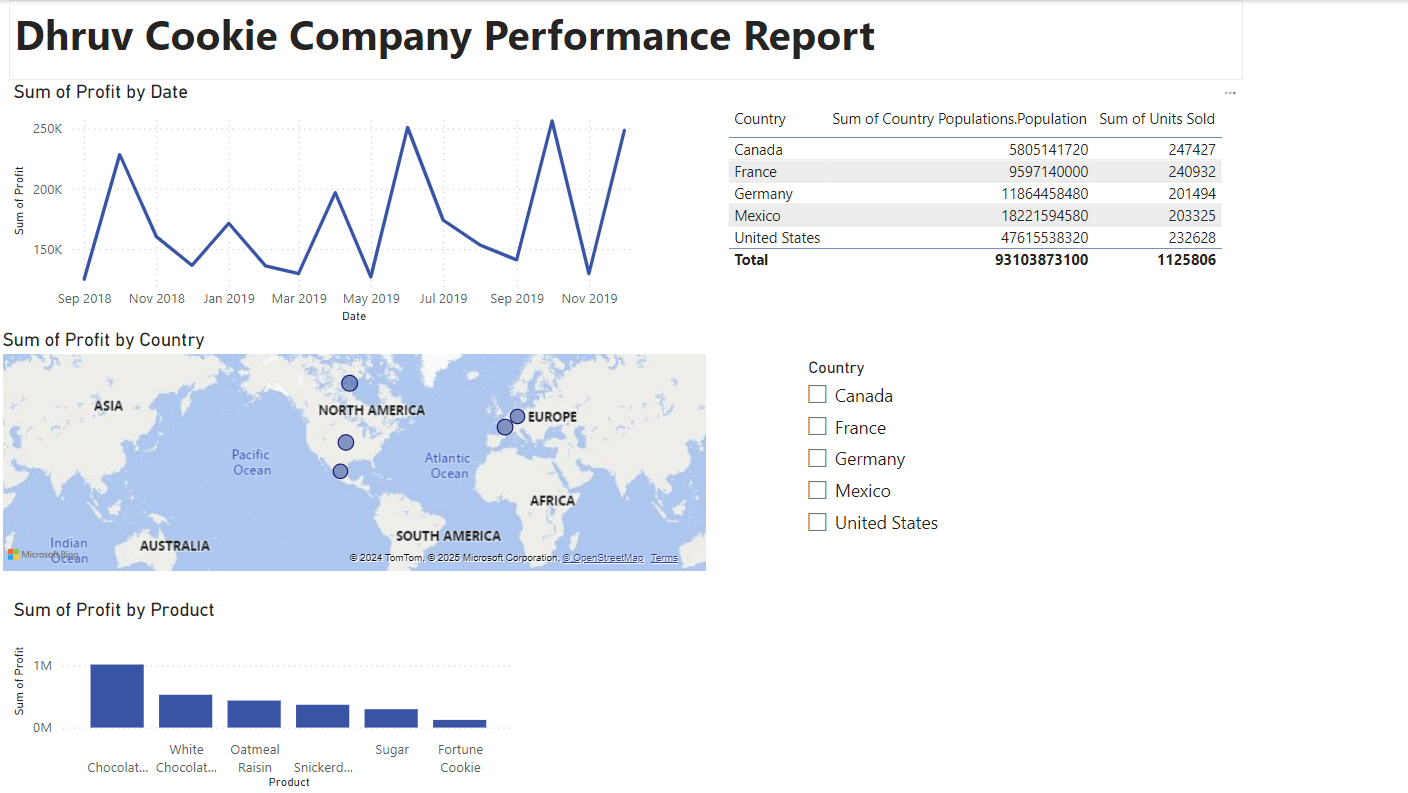

What the dashboard file says about the page in this screenshot:
{"tool":"powerbi","page":{"name":"Page 1","canvas":[1280,720],"ordinal":0},"visuals":[{"type":"textbox","box":[10.7,0,1119.3,72.3],"z":0},{"type":"textbox","box":[10,290,280,280],"z":1000},{"type":"lineChart","fields":{"Category":["Cookie Sales.Date"],"Y":["Cookie Sales. Profit "]},"box":[10,72.5,590,225],"z":2000},{"type":"map","fields":{"Category":["Cookie Sales.Country"],"Size":["Cookie Sales. Profit "]},"box":[0,297.5,647.5,225],"z":3000},{"type":"tableEx","fields":{"Values":["Cookie Sales.Country","Cookie Sales.Country Populations.Population","Cookie Sales.Units Sold"]},"box":[657.5,92.5,472.5,167.5],"z":4000},{"type":"clusteredColumnChart","fields":{"Y":["Cookie Sales. Profit "],"Category":["Cookie Sales. Product "]},"box":[10,542.5,465,177.5],"z":5000},{"type":"slicer","fields":{"Values":["Cookie Sales.Country"]},"box":[722.5,320,172.5,177.5],"z":6000}]}

Visuals, with their boxes in screenshot pixels (x1, y1, x2, y2), scaled from the page's 1280x720 canvas onto the 1408x793 screenshot:
textbox: <region>12, 0, 1243, 80</region>
textbox: <region>11, 319, 319, 628</region>
lineChart - Cookie Sales.Date x Cookie Sales. Profit : <region>11, 80, 660, 328</region>
map - Cookie Sales.Country x Cookie Sales. Profit : <region>0, 328, 712, 575</region>
tableEx - Cookie Sales.Country x Cookie Sales.Country Populations.Population: <region>723, 102, 1243, 286</region>
clusteredColumnChart - Cookie Sales. Profit  x Cookie Sales. Product : <region>11, 598, 522, 792</region>
slicer - Cookie Sales.Country: <region>795, 352, 985, 548</region>
